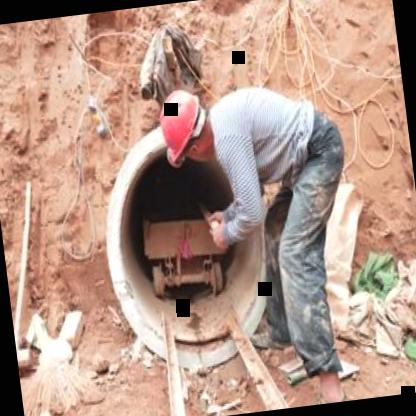helmet: (150, 79, 220, 176)
